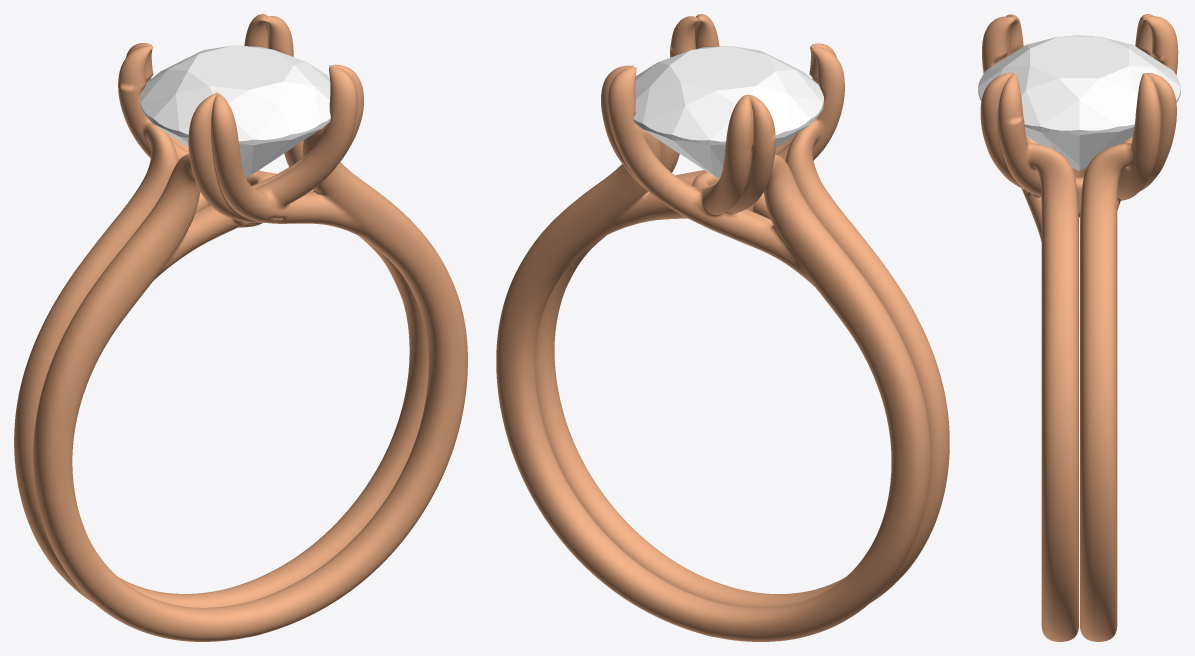
The model's file is nhanMirror.glb.
3 views of the same model, side by side, from view 1: azimuth 30°, elevation 25°; view 2: azimuth 150°, elevation 25°; view 3: azimuth 270°, elevation 25° (orthographic).
Visible parts, largest first — view 1: Metal_01, Gem; view 2: Metal_01, Gem; view 3: Metal_01, Gem.
Part boxes in pixels (x1=…): Metal_01: x1=14, y1=14, x2=467, y2=641; Gem: x1=140, y1=45, x2=330, y2=177; Metal_01: x1=496, y1=14, x2=949, y2=641; Gem: x1=633, y1=46, x2=823, y2=179; Metal_01: x1=980, y1=14, x2=1178, y2=641; Gem: x1=978, y1=35, x2=1180, y2=170.
Size of the model in its own units: 2.39 by 3.05 by 0.9794.
